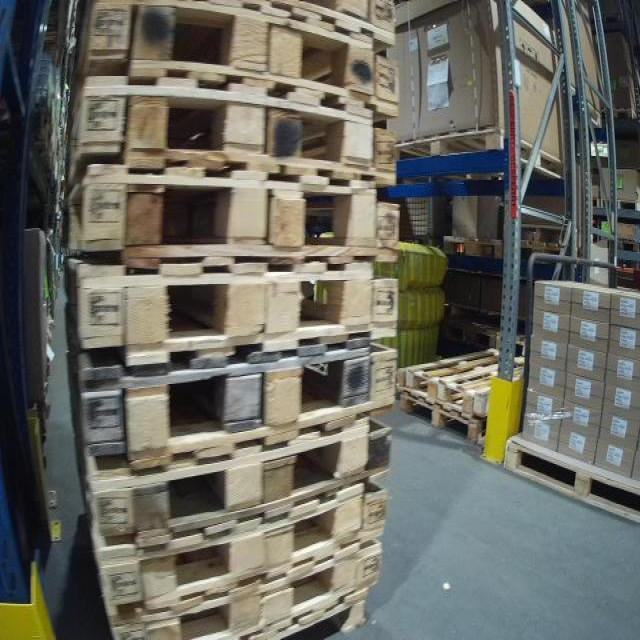pallet: (99, 469, 388, 620), (82, 339, 395, 477), (86, 411, 393, 543), (66, 261, 401, 375), (80, 3, 402, 107), (65, 163, 401, 261), (65, 74, 421, 163), (111, 540, 380, 640), (500, 437, 640, 526), (392, 119, 569, 179), (396, 341, 530, 419), (254, 587, 370, 638), (397, 395, 484, 441), (441, 233, 507, 259), (441, 321, 499, 349)
stillage: (391, 164, 452, 254)
